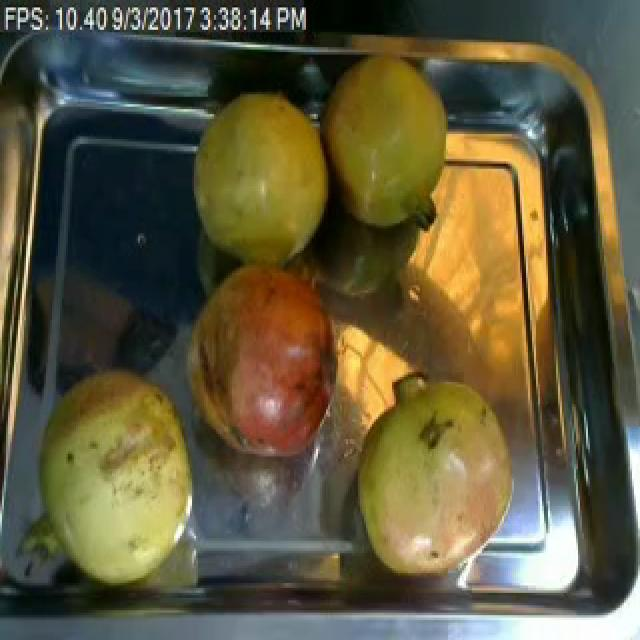fruit: (24, 350, 206, 595), (344, 360, 526, 593), (182, 250, 354, 469), (310, 47, 458, 246), (186, 82, 336, 278)
